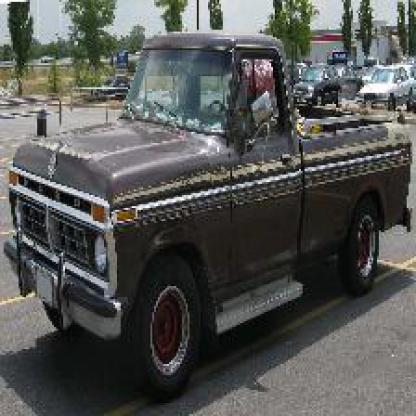not_emergency: (13, 19, 414, 375)
